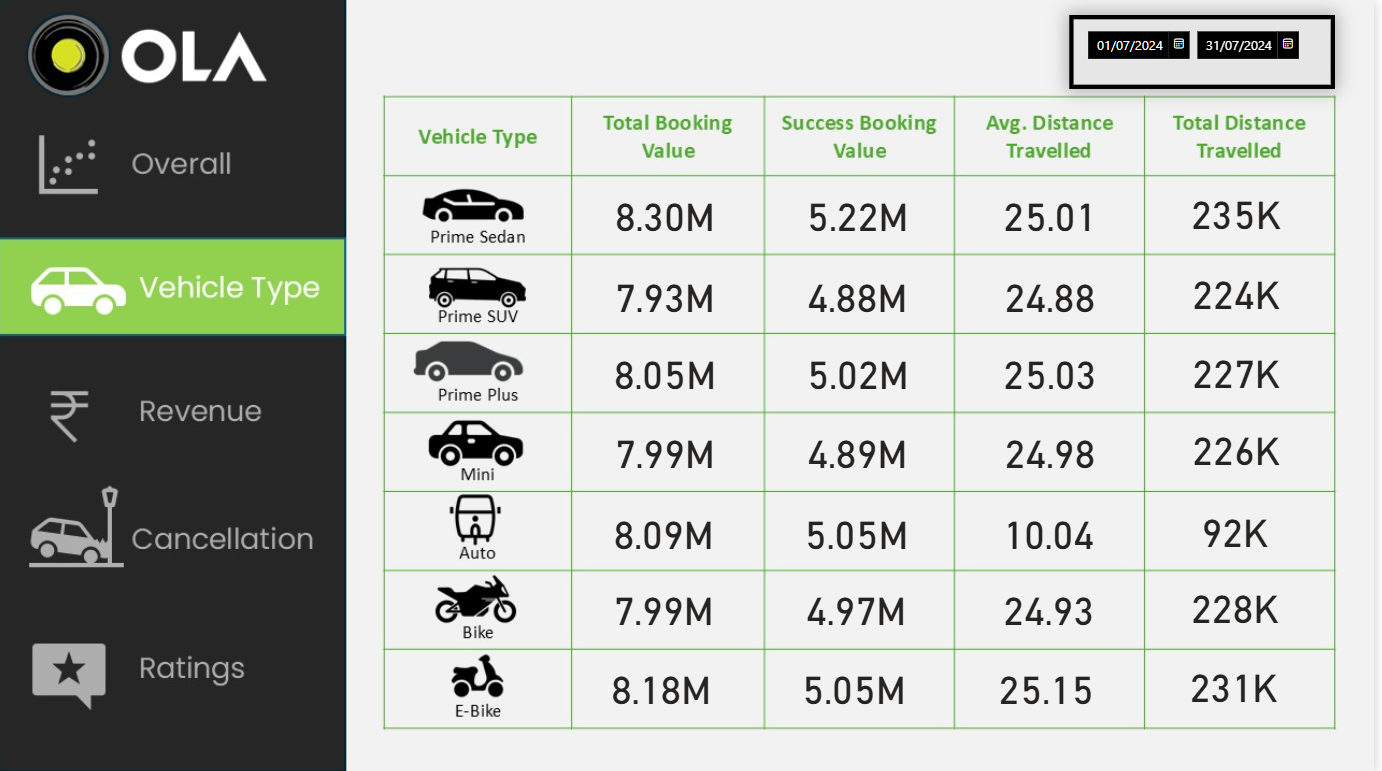

The page's visual inventory and layout, read from the dashboard file:
{"tool":"powerbi","page":{"name":"Vehicle Type","canvas":[1280,720],"ordinal":1},"visuals":[{"type":"actionButton","box":[1.1,583.3,323.9,92.4],"z":0},{"type":"actionButton","box":[0,447.5,323.9,92.4],"z":1000},{"type":"actionButton","box":[0,338.4,323.9,92.4],"z":2000},{"type":"actionButton","box":[1.1,108,323.9,92.4],"z":3000},{"type":"card","fields":{"Values":["Sum(July.Booking_Value)"]},"box":[539.5,167.4,161.6,64],"z":4000},{"type":"card","fields":{"Values":["Sum(July.Booking_Value)"]},"box":[539.3,241.5,161.9,64.5],"z":5000},{"type":"card","fields":{"Values":["Sum(July.Booking_Value)"]},"box":[539.3,314.2,161.9,64.5],"z":6000},{"type":"card","fields":{"Values":["Sum(July.Booking_Value)"]},"box":[539.3,387,161.9,64.5],"z":7000},{"type":"card","fields":{"Values":["Sum(July.Booking_Value)"]},"box":[537.9,462.4,161.9,64.5],"z":8000},{"type":"card","fields":{"Values":["Sum(July.Booking_Value)"]},"box":[537.9,533.8,161.9,64.5],"z":9000},{"type":"card","fields":{"Values":["Sum(July.Booking_Value)"]},"box":[536.5,606.5,161.9,64.5],"z":10000},{"type":"card","fields":{"Values":["Sum(July.Booking_Value)"]},"box":[718.6,167.6,161.6,64],"z":11000},{"type":"card","fields":{"Values":["Sum(July.Booking_Value)"]},"box":[718.3,241.6,161.9,64.5],"z":12000},{"type":"card","fields":{"Values":["Sum(July.Booking_Value)"]},"box":[718.3,314.4,161.9,64.5],"z":13000},{"type":"card","fields":{"Values":["Sum(July.Booking_Value)"]},"box":[718.3,387.1,161.9,64.5],"z":14000},{"type":"card","fields":{"Values":["Sum(July.Booking_Value)"]},"box":[717,462.6,161.9,64.5],"z":15000},{"type":"card","fields":{"Values":["Sum(July.Booking_Value)"]},"box":[717,533.9,161.9,64.5],"z":16000},{"type":"card","fields":{"Values":["Sum(July.Booking_Value)"]},"box":[715.6,606.6,161.9,64.5],"z":17000},{"type":"card","fields":{"Values":["Avg(July.Ride_Distance)"]},"box":[897.7,167.7,161.6,64],"z":18000},{"type":"card","fields":{"Values":["Avg(July.Ride_Distance)"]},"box":[897.4,241.8,161.9,64.5],"z":19000},{"type":"card","fields":{"Values":["Avg(July.Ride_Distance)"]},"box":[897.4,314.5,161.9,64.5],"z":20000},{"type":"card","fields":{"Values":["Avg(July.Ride_Distance)"]},"box":[897.4,387.2,161.9,64.5],"z":21000},{"type":"card","fields":{"Values":["Avg(July.Ride_Distance)"]},"box":[896,462.7,161.9,64.5],"z":22000},{"type":"card","fields":{"Values":["Avg(July.Ride_Distance)"]},"box":[896,534,161.9,64.5],"z":23000},{"type":"card","fields":{"Values":["Avg(July.Ride_Distance)"]},"box":[894.7,606.8,161.9,64.5],"z":24000},{"type":"card","fields":{"Values":["Sum(July.Ride_Distance)"]},"box":[1071.2,165.6,161.6,64],"z":25000},{"type":"card","fields":{"Values":["Sum(July.Ride_Distance)"]},"box":[1071,239.7,161.9,64.5],"z":26000},{"type":"card","fields":{"Values":["Sum(July.Ride_Distance)"]},"box":[1071,312.4,161.9,64.5],"z":27000},{"type":"card","fields":{"Values":["Sum(July.Ride_Distance)"]},"box":[1071,385.1,161.9,64.5],"z":28000},{"type":"card","fields":{"Values":["Sum(July.Ride_Distance)"]},"box":[1069.6,460.6,161.9,64.5],"z":29000},{"type":"card","fields":{"Values":["Sum(July.Ride_Distance)"]},"box":[1069.6,532,161.9,64.5],"z":30000},{"type":"card","fields":{"Values":["Sum(July.Ride_Distance)"]},"box":[1068.2,604.7,161.9,64.5],"z":31000},{"type":"slicer","title":"Date","fields":{"Values":["July.Date"]},"box":[996.2,13.7,247,68.6],"z":32000}]}

Visuals, with their boxes in screenshot pixels (x1, y1, x2, y2), scaled from the page's 1280x720 canvas onto the 1382x771 screenshot:
actionButton: 1:625:351:724
actionButton: 0:479:350:578
actionButton: 0:362:350:461
actionButton: 1:116:351:215
card - Sum(July.Booking_Value): 582:179:757:248
card - Sum(July.Booking_Value): 582:259:757:328
card - Sum(July.Booking_Value): 582:336:757:406
card - Sum(July.Booking_Value): 582:414:757:483
card - Sum(July.Booking_Value): 581:495:756:564
card - Sum(July.Booking_Value): 581:572:756:641
card - Sum(July.Booking_Value): 579:649:754:719
card - Sum(July.Booking_Value): 776:179:950:248
card - Sum(July.Booking_Value): 776:259:950:328
card - Sum(July.Booking_Value): 776:337:950:406
card - Sum(July.Booking_Value): 776:415:950:484
card - Sum(July.Booking_Value): 774:495:949:564
card - Sum(July.Booking_Value): 774:572:949:641
card - Sum(July.Booking_Value): 773:650:947:719
card - Avg(July.Ride_Distance): 969:180:1144:248
card - Avg(July.Ride_Distance): 969:259:1144:328
card - Avg(July.Ride_Distance): 969:337:1144:406
card - Avg(July.Ride_Distance): 969:415:1144:484
card - Avg(July.Ride_Distance): 967:495:1142:565
card - Avg(July.Ride_Distance): 967:572:1142:641
card - Avg(July.Ride_Distance): 966:650:1141:719
card - Sum(July.Ride_Distance): 1157:177:1331:246
card - Sum(July.Ride_Distance): 1156:257:1331:326
card - Sum(July.Ride_Distance): 1156:335:1331:404
card - Sum(July.Ride_Distance): 1156:412:1331:481
card - Sum(July.Ride_Distance): 1155:493:1330:562
card - Sum(July.Ride_Distance): 1155:570:1330:639
card - Sum(July.Ride_Distance): 1153:648:1328:717
"Date" slicer: 1076:15:1342:88
